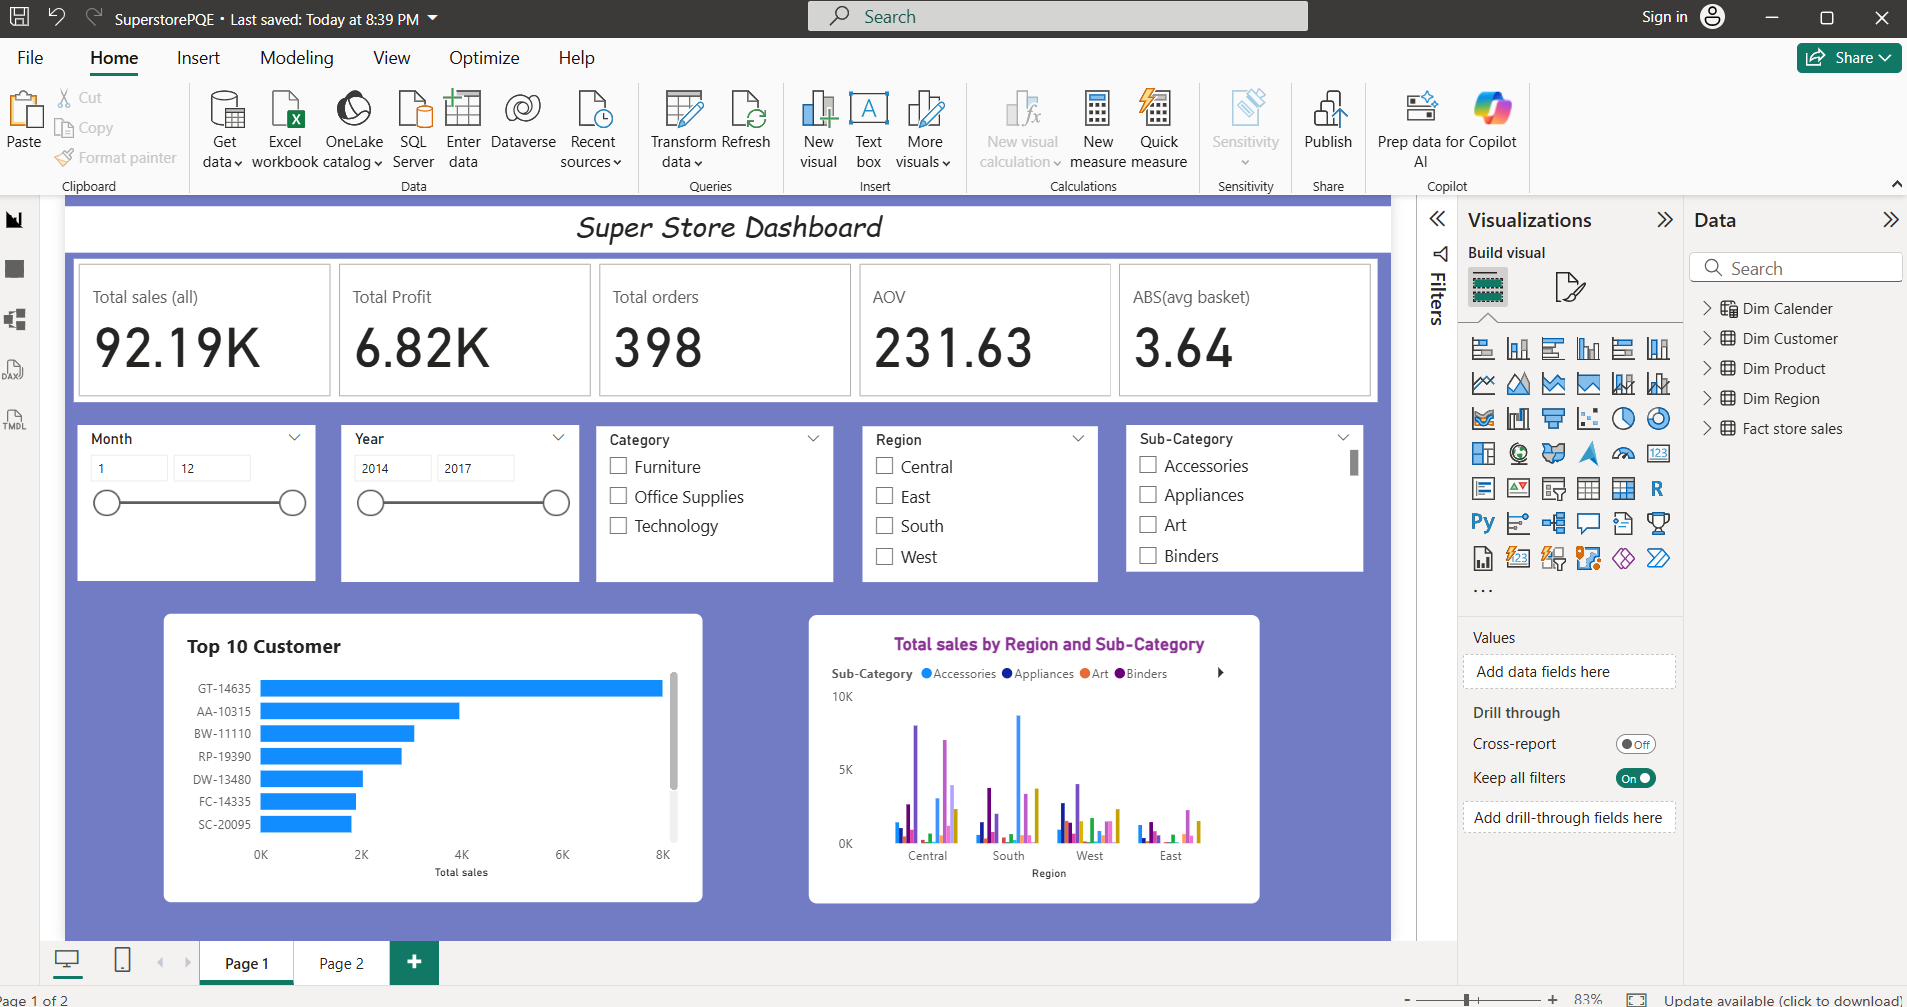

Layout of this report page (visuals, bound fields, positions):
{"tool":"powerbi","page":{"name":"Page 1","canvas":[1280,720],"ordinal":0},"visuals":[{"type":"textbox","title":"Super Store Dashboard","box":[0,11.2,1280,45],"z":0},{"type":"cardVisual","fields":{"Data":["Fact store sales.Total sales (all)","Fact store sales.Total Profit","Fact store sales.Total orders","Fact store sales.AOV","Fact store sales.ABS(avg basket)"]},"box":[8.4,61.5,1258.3,138.7],"z":1000},{"type":"slicer","fields":{"Values":["Dim Calender.Month"]},"box":[12.5,222.5,228.8,150],"z":2000},{"type":"slicer","fields":{"Values":["Dim Calender.Year"]},"box":[266.2,222.5,228.8,151.2],"z":3000},{"type":"slicer","fields":{"Values":["Dim Product.Category"]},"box":[512.5,223.8,228.8,150],"z":4000},{"type":"slicer","fields":{"Values":["Dim Region.Region"]},"box":[770,223.8,227.5,150],"z":5000},{"type":"slicer","fields":{"Values":["Dim Product.Sub-Category"]},"box":[1023.8,222.5,228.8,141.2],"z":6000},{"type":"clusteredColumnChart","fields":{"Series":["Dim Product.Sub-Category"],"Y":["Fact store sales.Total sales"],"Category":["Dim Region.Region"]},"box":[717.8,405.4,435.5,278.7],"z":8000},{"type":"barChart","title":"Top 10 Customer","fields":{"Category":["Dim Customer.Customer ID"],"Y":["Fact store sales.Total sales"]},"box":[95.3,404.2,520,278.7],"z":11000}]}

Visuals, with their boxes on the page's 1280x720 design canvas (x1, y1, x2, y2). These are canvas units, not pixel positions in the 1907x1007 screenshot, which may show the page scaled, cropped or inside an application window:
"Super Store Dashboard" textbox: {"left": 0, "top": 11, "right": 1280, "bottom": 56}
cardVisual - Fact store sales.Total sales (all) x Fact store sales.Total Profit: {"left": 8, "top": 62, "right": 1267, "bottom": 200}
slicer - Dim Calender.Month: {"left": 12, "top": 222, "right": 241, "bottom": 372}
slicer - Dim Calender.Year: {"left": 266, "top": 222, "right": 495, "bottom": 374}
slicer - Dim Product.Category: {"left": 512, "top": 224, "right": 741, "bottom": 374}
slicer - Dim Region.Region: {"left": 770, "top": 224, "right": 998, "bottom": 374}
slicer - Dim Product.Sub-Category: {"left": 1024, "top": 222, "right": 1253, "bottom": 364}
clusteredColumnChart - Dim Product.Sub-Category x Fact store sales.Total sales: {"left": 718, "top": 405, "right": 1153, "bottom": 684}
"Top 10 Customer" barChart: {"left": 95, "top": 404, "right": 615, "bottom": 683}
